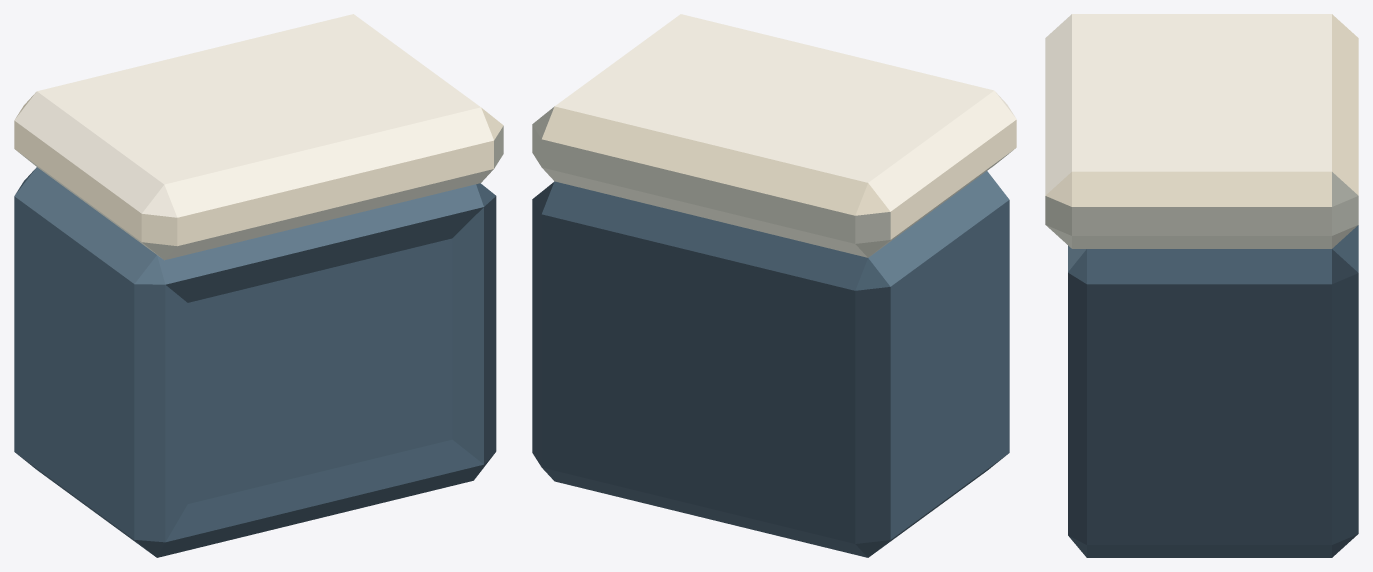
File: Terrain_TopRun1.gltf
3 views of the same model, side by side, from view 1: azimuth 30°, elevation 25°; view 2: azimuth 150°, elevation 25°; view 3: azimuth 270°, elevation 25° (orthographic). The views are drawn at different scales.
Parts seen in each view (by area): view 1: Terrain_TopRun1_baked; view 2: Terrain_TopRun1_baked; view 3: Terrain_TopRun1_baked.
Boxes of the visible parts, <box> form: Terrain_TopRun1_baked: <box>14,14,503,557</box>; Terrain_TopRun1_baked: <box>532,14,1016,557</box>; Terrain_TopRun1_baked: <box>1045,14,1358,557</box>.
Size of the model in its own units: 1 by 1 by 0.735.
